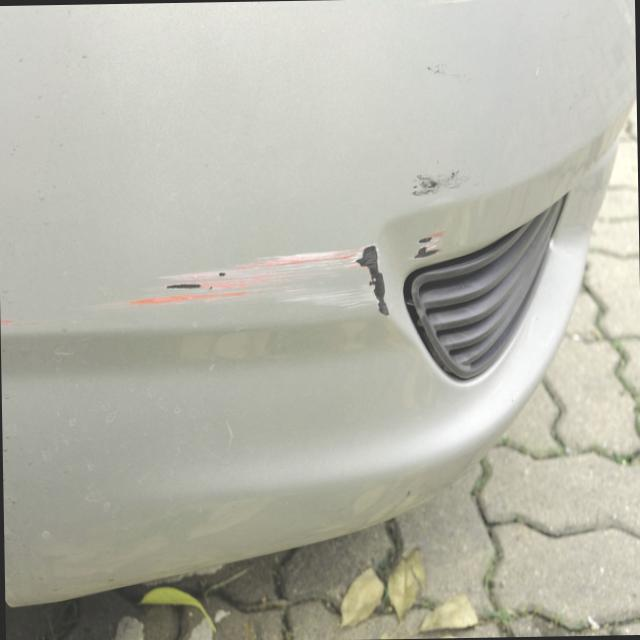Rayure: (151, 237, 390, 319), (110, 277, 268, 324), (411, 157, 474, 204), (410, 224, 454, 271), (0, 312, 45, 334)
